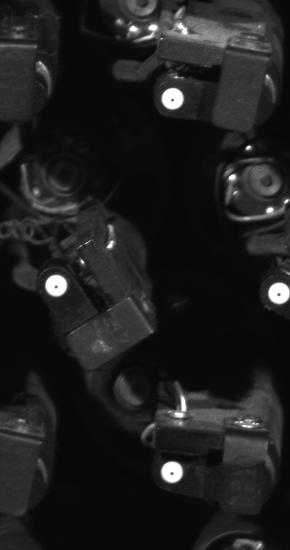fiber: (157, 82, 192, 115), (154, 458, 188, 487), (44, 270, 71, 300), (263, 277, 290, 306)
